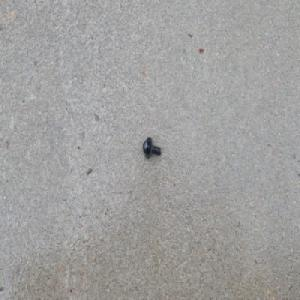BoltWasher: (142, 135, 161, 160)
